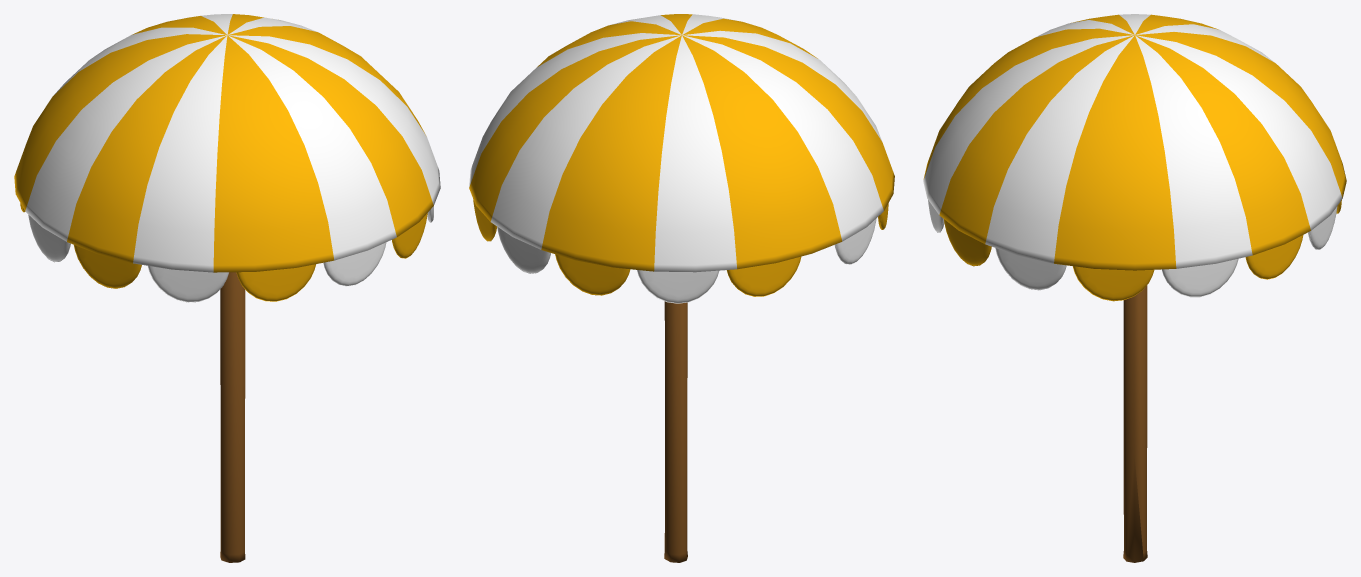
The model's file is SM_Sonnenshirm_01.fbx.
3 renders of one model, left to right at view 1: azimuth 30°, elevation 25°; view 2: azimuth 150°, elevation 25°; view 3: azimuth 270°, elevation 25°, orthographic.
Visible parts, largest first — view 1: Sonnenshirm_01.001; view 2: Sonnenshirm_01.001; view 3: Sonnenshirm_01.001.
Part boxes in pixels (x1,y1,x2,y2): Sonnenshirm_01.001: (14, 14, 440, 562); Sonnenshirm_01.001: (469, 14, 894, 562); Sonnenshirm_01.001: (923, 14, 1346, 562).
Size of the model in its own units: 196 by 266 by 196.
